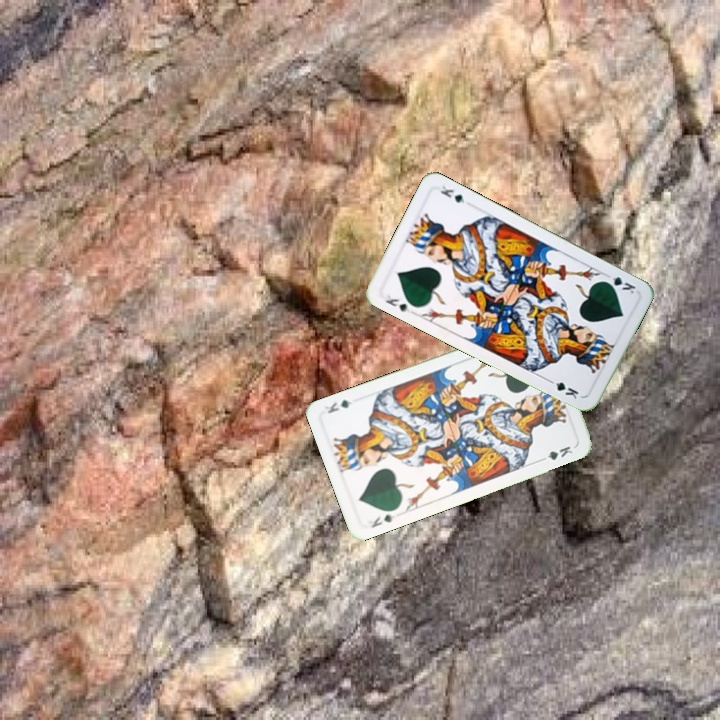GK: (599, 271, 638, 296), (381, 290, 412, 315), (367, 510, 397, 531)
